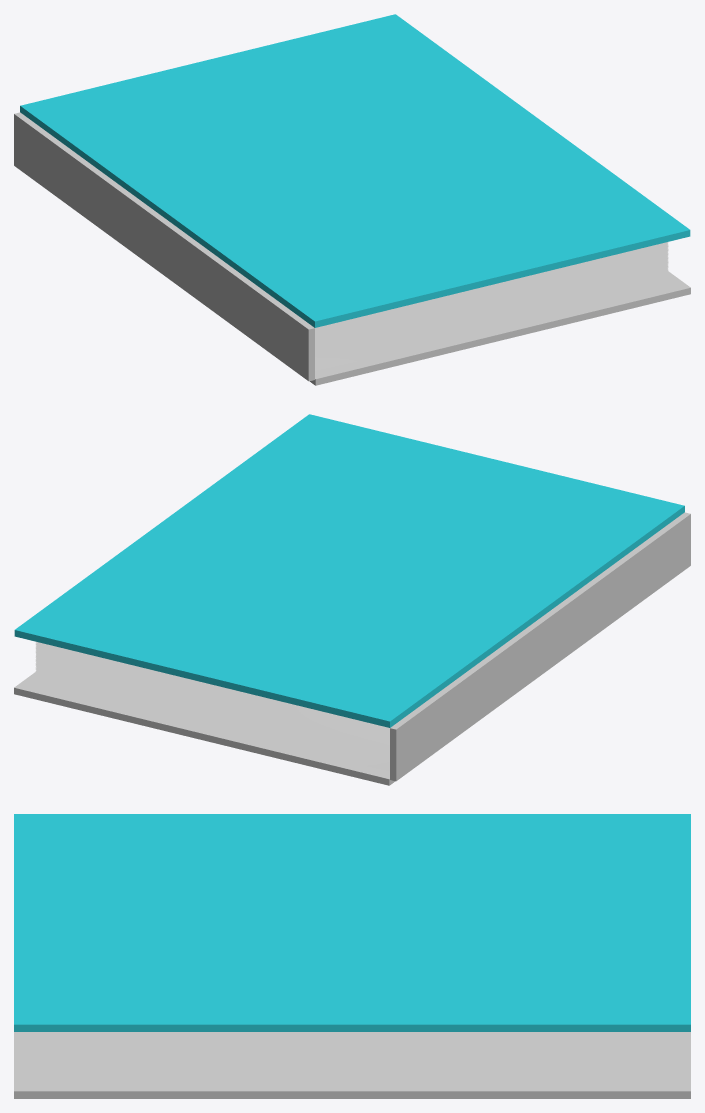
File: book123.glb
3 renders of one model, top to bottom at view 1: azimuth 30°, elevation 25°; view 2: azimuth 150°, elevation 25°; view 3: azimuth 270°, elevation 25°, orthographic. The views are drawn at different scales.
Visible parts, largest first — view 1: Cover L, Spine, Cover R, ระนาบ.009, ระนาบ.011, ระนาบ.029, ระนาบ.002, ระนาบ.003, ระนาบ.004, ระนาบ.005, ระนาบ.007, ระนาบ.008 (+25 smaller); view 2: Cover L, Spine, Cover R, ระนาบ.006, ระนาบ.025, ระนาบ.007, ระนาบ.017, ระนาบ.020, ระนาบ.022, ระนาบ.034, ระนาบ.004, ระนาบ.014 (+25 smaller); view 3: Cover L, Cover R, ระนาบ.012, ระนาบ.014, ระนาบ.016, ระนาบ.018, ระนาบ.020, ระนาบ.002, ระนาบ.004, ระนาบ.005, ระนาบ.007, ระนาบ.009 (+23 smaller).
Part boxes in pixels (x1,y1,x2,y2): Cover L: (20,14,690,327); Spine: (14,112,314,381); Cover R: (310,271,690,385); ระนาบ.009: (315,275,668,360); ระนาบ.011: (315,272,668,357); ระนาบ.029: (315,248,668,334); ระนาบ.002: (315,284,668,369); ระนาบ.003: (315,283,668,368); ระนาบ.004: (315,281,668,366); ระนาบ.005: (315,280,668,365); ระนาบ.007: (315,277,668,362); ระนาบ.008: (315,276,668,361); Cover L: (14,414,684,727); Spine: (390,512,690,781); Cover R: (14,671,394,785); ระนาบ.006: (35,679,389,764); ระนาบ.025: (36,654,389,740); ระนาบ.007: (35,678,389,763); ระนาบ.017: (35,665,389,750); ระนาบ.020: (35,661,389,747); ระนาบ.022: (35,658,389,744); ระนาบ.034: (35,642,389,729); ระนาบ.004: (35,682,389,767); ระนาบ.014: (35,669,389,754); Cover L: (14,814,690,1031); Cover R: (14,1032,690,1098); ระนาบ.012: (28,1063,678,1065); ระนาบ.014: (28,1060,678,1062); ระนาบ.016: (28,1057,678,1059); ระนาบ.018: (28,1054,678,1056); ระนาบ.020: (28,1051,678,1053); ระนาบ.002: (28,1079,678,1080); ระนาบ.004: (28,1076,678,1077); ระนาบ.005: (28,1074,678,1075); ระนาบ.007: (28,1071,678,1072); ระนาบ.009: (28,1068,678,1069).
Size of the model in its own units: 1.48 by 0.2386 by 1.98.
